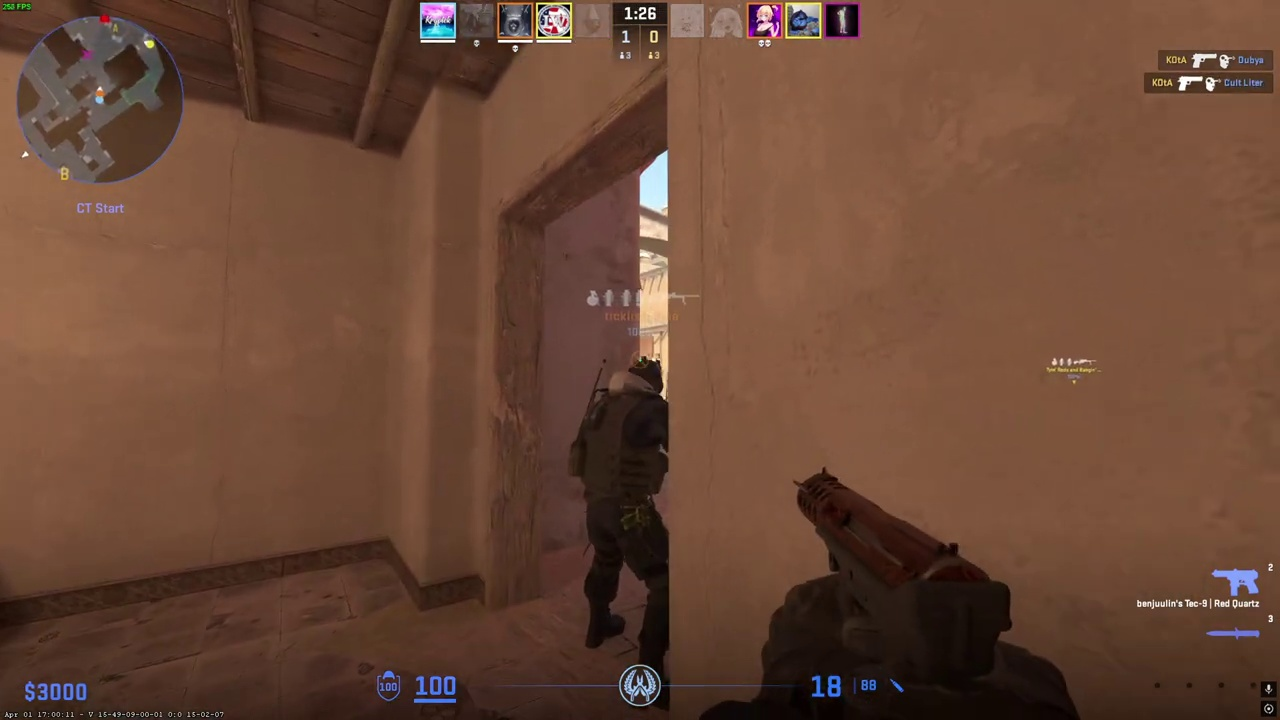CT: (577, 357, 669, 673)
